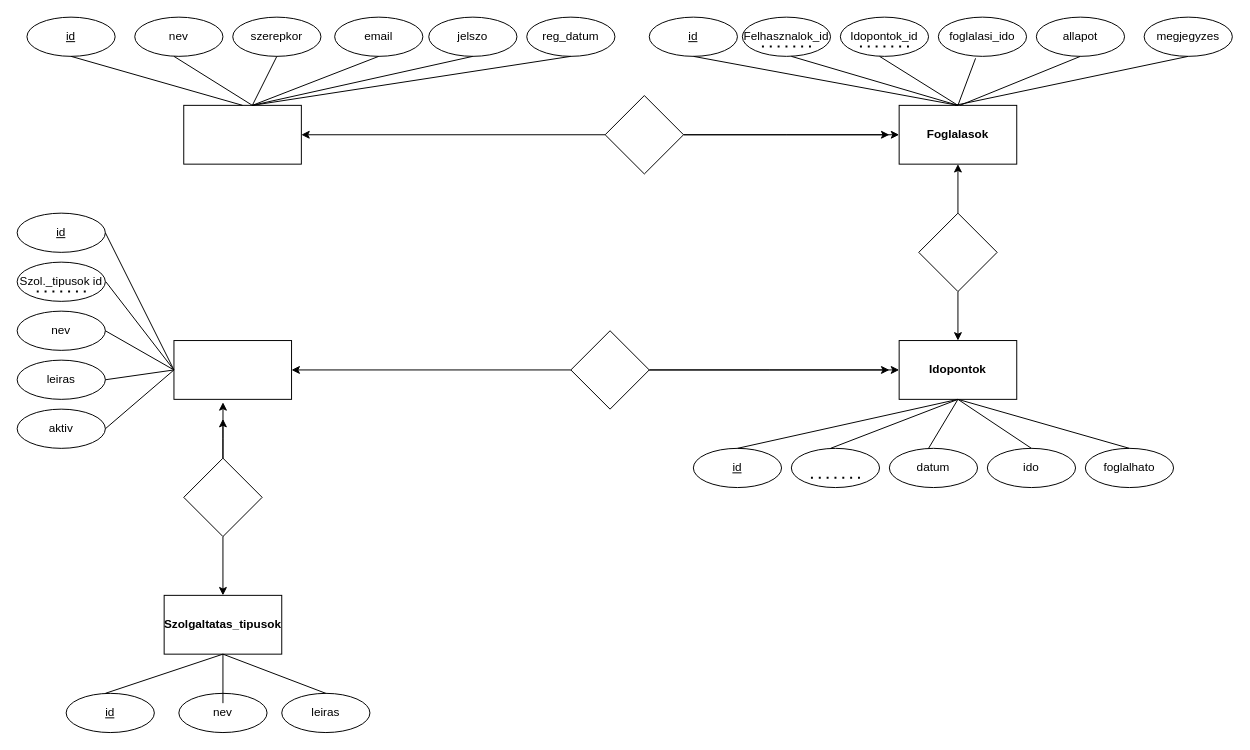
Some shapes in this 1250 by 750 pixel diagram are drawn without their labels. The shapes that lost their labels are listed below. From the top down, each one's box as (x1, y1, x2, y2) in pixels, then its label:
(183, 104, 301, 164): Felhasznalok
(604, 95, 684, 174): F-F
(918, 212, 997, 292): I-F
(173, 340, 292, 399): Szolgaltatok
(570, 330, 649, 409): SZ-I
(790, 447, 880, 488): Szolgaltatok_id
(183, 457, 262, 537): SZ_T- SZ
